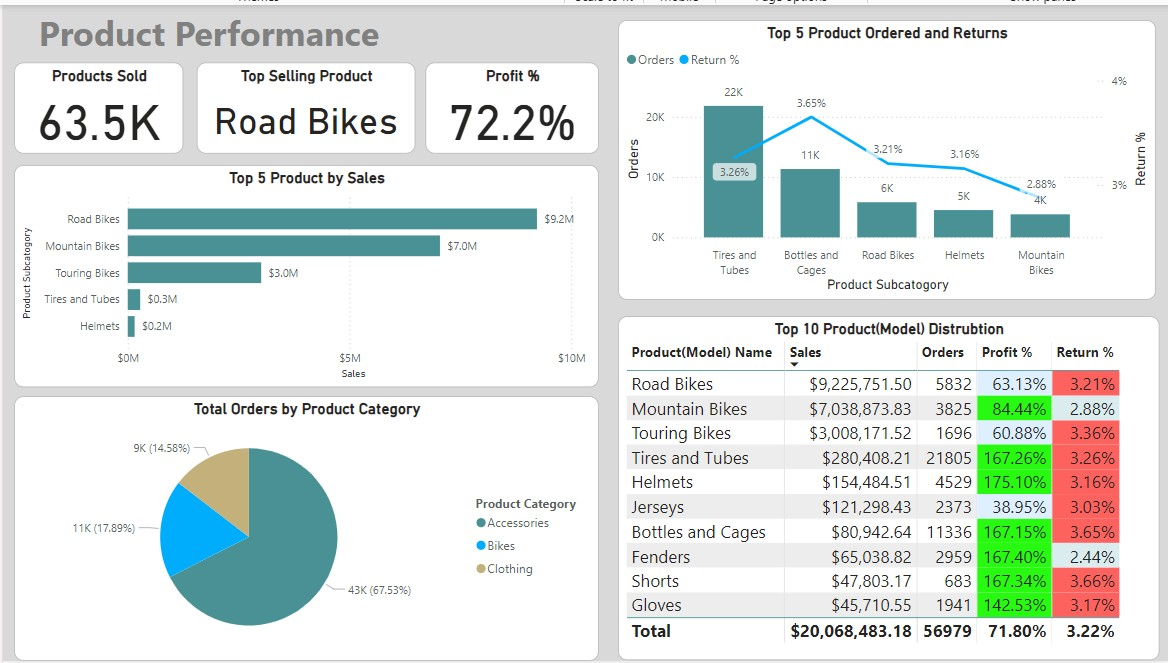

The dashboard page shown, as its layout file describes it:
{"tool":"powerbi","page":{"name":"Product","canvas":[1280,720],"ordinal":2},"visuals":[{"type":"lineStackedColumnComboChart","title":"Top 5 Product Ordered and Returns","fields":{"Category":["Product_subcategory.Subcategory_name"],"Y":["Sum(Final_Sales.Order_Quantity)"],"Y2":["Product_Returns.Product_Return_Rate"]},"box":[675.1,16.5,590.1,307.4],"z":0},{"type":"clusteredBarChart","title":"Top 5 Product by Sales","fields":{"Category":["Product_subcategory.Subcategory_name"],"Y":["Sum(Final_Sales.Total_Product_Price)"]},"box":[12.9,175.7,641.4,244.3],"z":1000},{"type":"card","title":"Products Sold","fields":{"Values":["Sum(Final_Sales.Order_Quantity)"]},"box":[12.9,62.9,185.7,100],"z":2000},{"type":"card","title":"Top Selling Product","fields":{"Values":["Min(Product_subcategory.Subcategory_name)"]},"box":[212.9,62.9,240,100],"z":3000},{"type":"card","title":"Profit %","fields":{"Values":["Final_Sales.Total Turnover"]},"box":[464.3,62.9,190,100],"z":4000},{"type":"textbox","box":[34.3,0,395.7,60],"z":5000},{"type":"pieChart","fields":{"Category":["Product_Category.Category_Name"],"Y":["Sum(Final_Sales.Order_Quantity)"]},"box":[12.9,430,641.4,290],"z":6000},{"type":"tableEx","title":"Top 10 Product(Model) Distrubtion","fields":{"Values":["Product_subcategory.Subcategory_name","Sum(Final_Sales.Total_Product_Price)","Sum(Final_Sales.Order_Quantity)","Final_Sales.Total Turnover","Product_Returns.Product_Return_Rate"]},"box":[675.1,341.7,594.2,377.4],"z":7000}]}

Visuals, with their boxes on the page's 1280x720 design canvas (x1, y1, x2, y2). These are canvas units, not pixel positions in the 1168x663 screenshot, which may show the page scaled, cropped or inside an application window:
"Top 5 Product Ordered and Returns" lineStackedColumnComboChart: box=[675, 16, 1265, 324]
"Top 5 Product by Sales" clusteredBarChart: box=[13, 176, 654, 420]
"Products Sold" card: box=[13, 63, 199, 163]
"Top Selling Product" card: box=[213, 63, 453, 163]
"Profit %" card: box=[464, 63, 654, 163]
textbox: box=[34, 0, 430, 60]
pieChart - Product_Category.Category_Name x Sum(Final_Sales.Order_Quantity): box=[13, 430, 654, 720]
"Top 10 Product(Model) Distrubtion" tableEx: box=[675, 342, 1269, 719]
